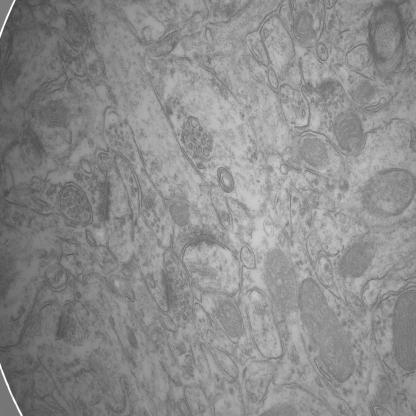mitochondria: (296, 280, 355, 382), (358, 165, 416, 215), (266, 245, 295, 314), (392, 287, 416, 369), (338, 242, 382, 279), (330, 111, 366, 154), (216, 298, 242, 336), (300, 136, 330, 165), (169, 201, 191, 228)
